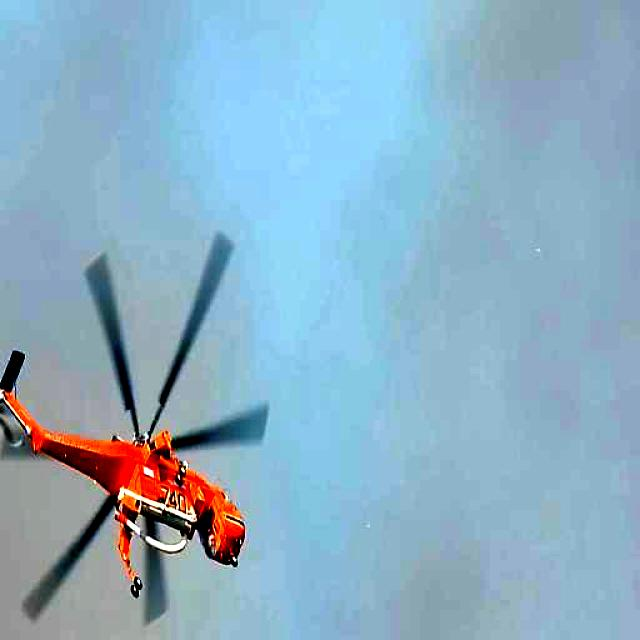drone: (0, 220, 275, 630)
